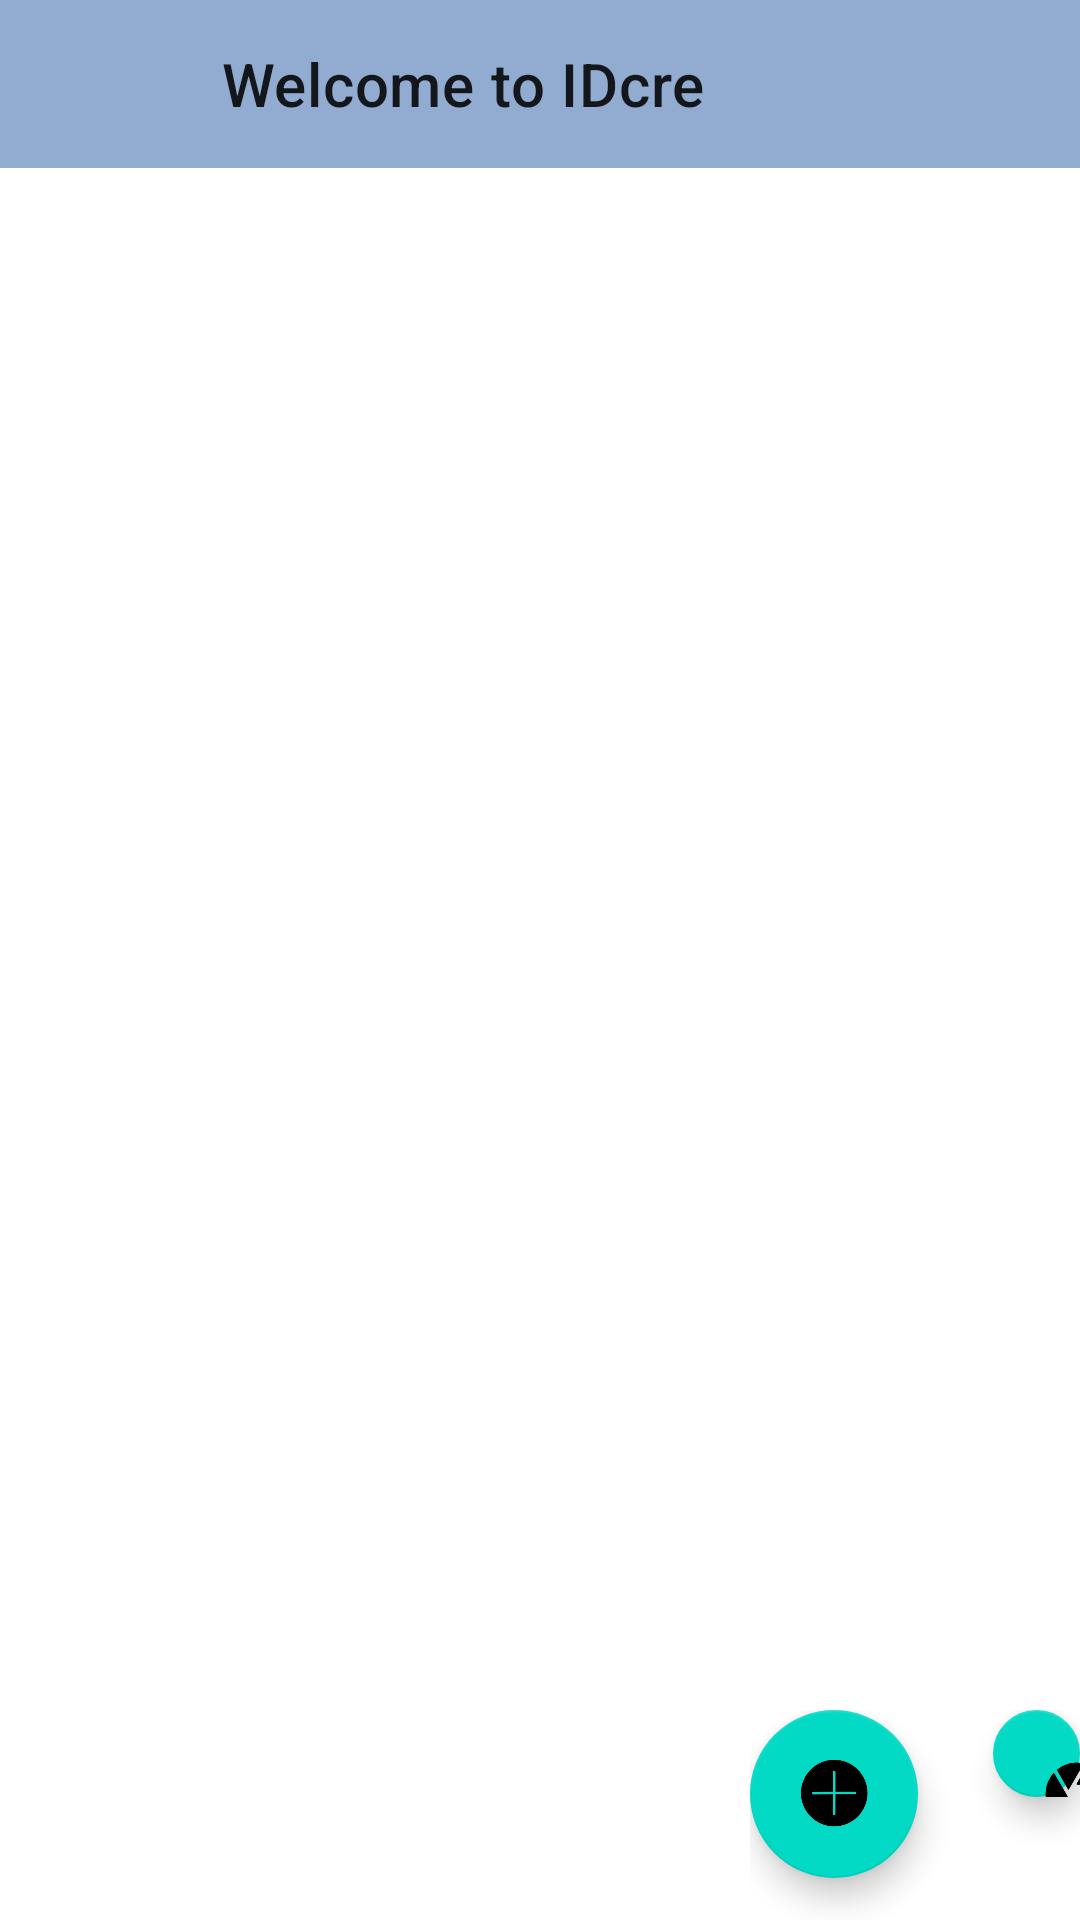

Icons on this 1080*1920 Android screen, each with its box as [x1=x1, y1=y1, x2=x2, y2=y2]:
add: [x1=750, y1=1710, x2=918, y2=1878]
